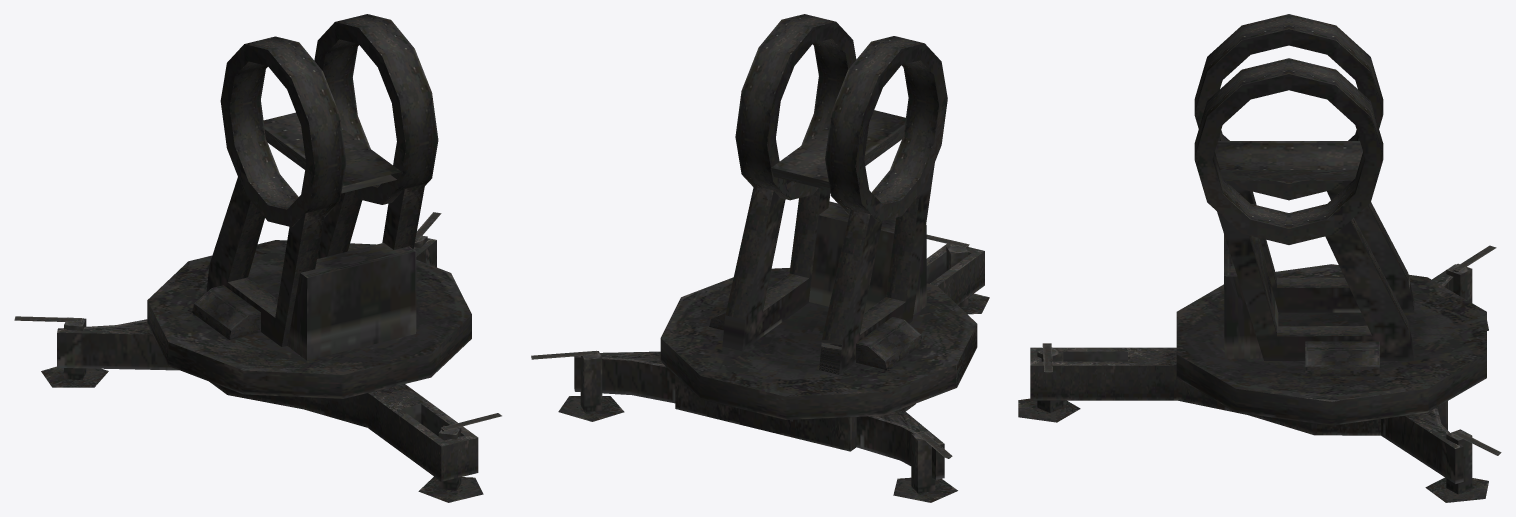
Rendered from AA_stativ.FBX.
3 views of the same model, side by side, from view 1: azimuth 30°, elevation 25°; view 2: azimuth 150°, elevation 25°; view 3: azimuth 270°, elevation 25° (orthographic). The views are drawn at different scales.
Visible parts, largest first — view 1: AX_FlaK38_Base; view 2: AX_FlaK38_Base; view 3: AX_FlaK38_Base.
Part boxes in pixels (left/top/right/bottom): AX_FlaK38_Base: left=14, top=14, right=501, bottom=502; AX_FlaK38_Base: left=531, top=14, right=989, bottom=502; AX_FlaK38_Base: left=1018, top=14, right=1501, bottom=502.
Bounding box in the file's own units: 1.61 × 1.31 × 1.57.
